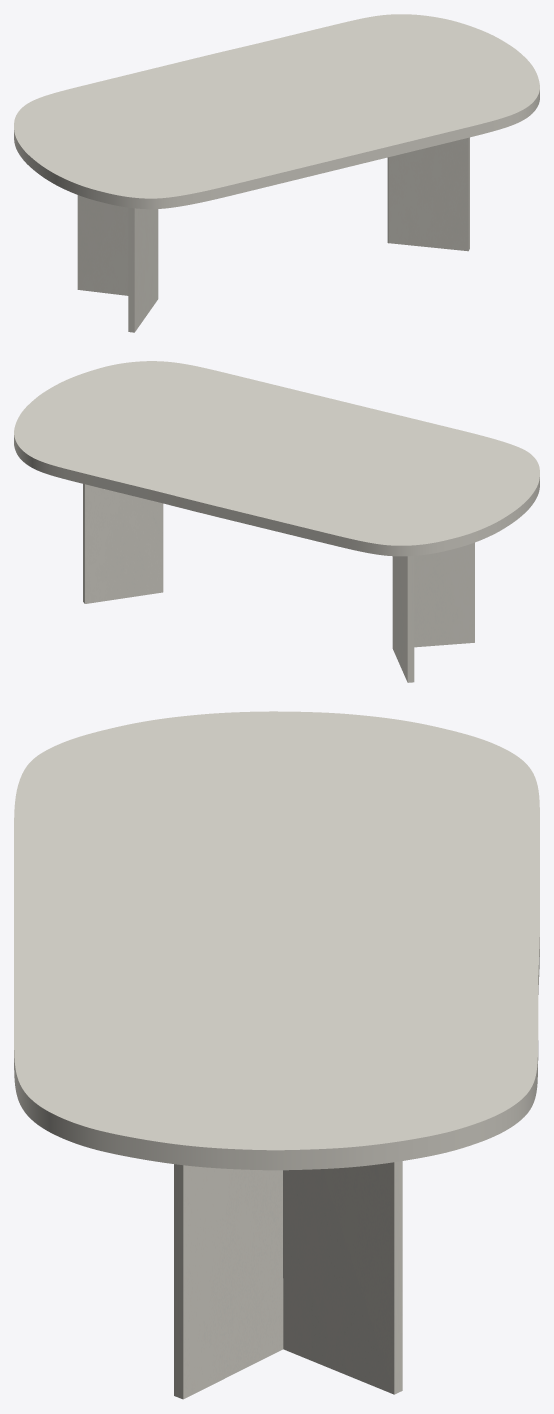
The model's file is pale_oval_standard_valleyv.glb.
3 views of the same model, one above another, from view 1: azimuth 30°, elevation 25°; view 2: azimuth 150°, elevation 25°; view 3: azimuth 270°, elevation 25° (orthographic). The views are drawn at different scales.
Parts seen in each view (by area): view 1: standard_oval, valleyv; view 2: standard_oval, valleyv; view 3: standard_oval, valleyv.
Part boxes in pixels (x1,y1,x2,y2): standard_oval: [14, 14, 539, 209]; valleyv: [77, 137, 469, 332]; standard_oval: [14, 361, 539, 556]; valleyv: [83, 484, 474, 682]; standard_oval: [14, 711, 539, 1170]; valleyv: [174, 1161, 402, 1399].
Size of the model in its own units: 7.5 by 2.5 by 3.8.
Materials: 1 (1 with a texture image).
